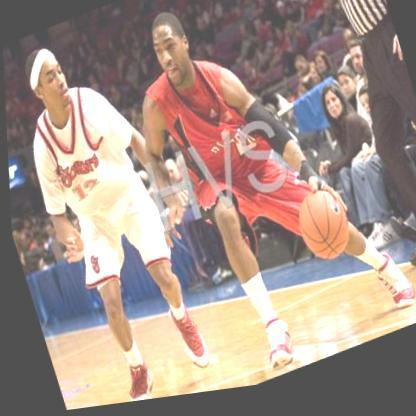basketball: (288, 189, 354, 277)
